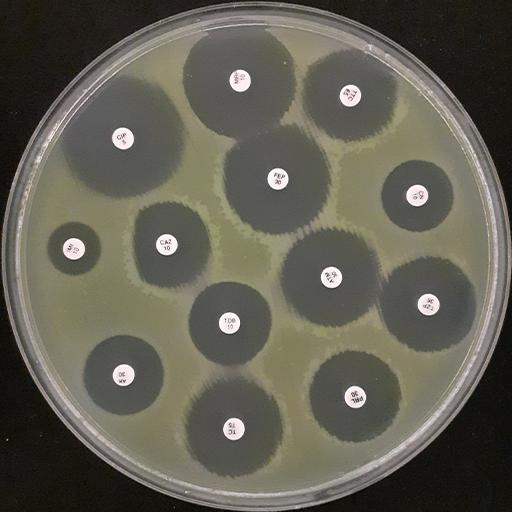disc: (344, 385, 367, 409), (62, 237, 85, 260), (417, 293, 440, 316), (222, 417, 245, 440), (229, 69, 251, 92), (339, 84, 362, 106), (267, 168, 290, 190), (406, 185, 429, 207), (320, 267, 343, 289), (218, 312, 241, 334), (112, 364, 134, 387), (112, 127, 134, 149), (156, 234, 178, 256)
